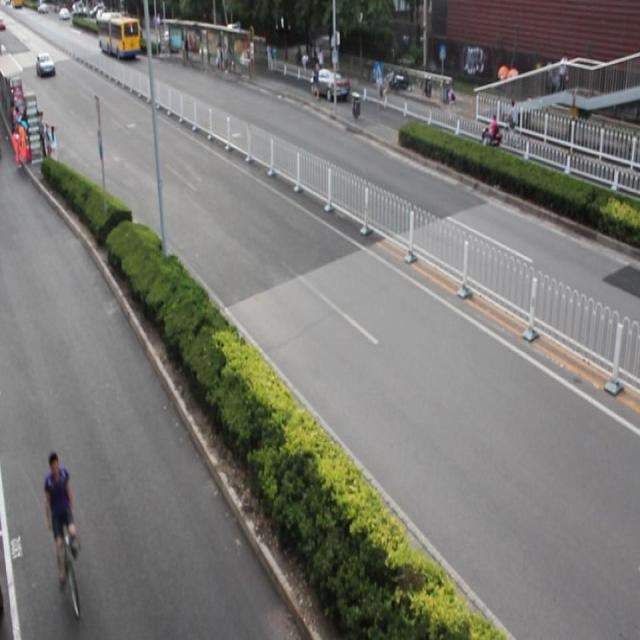car: (309, 66, 350, 105)
